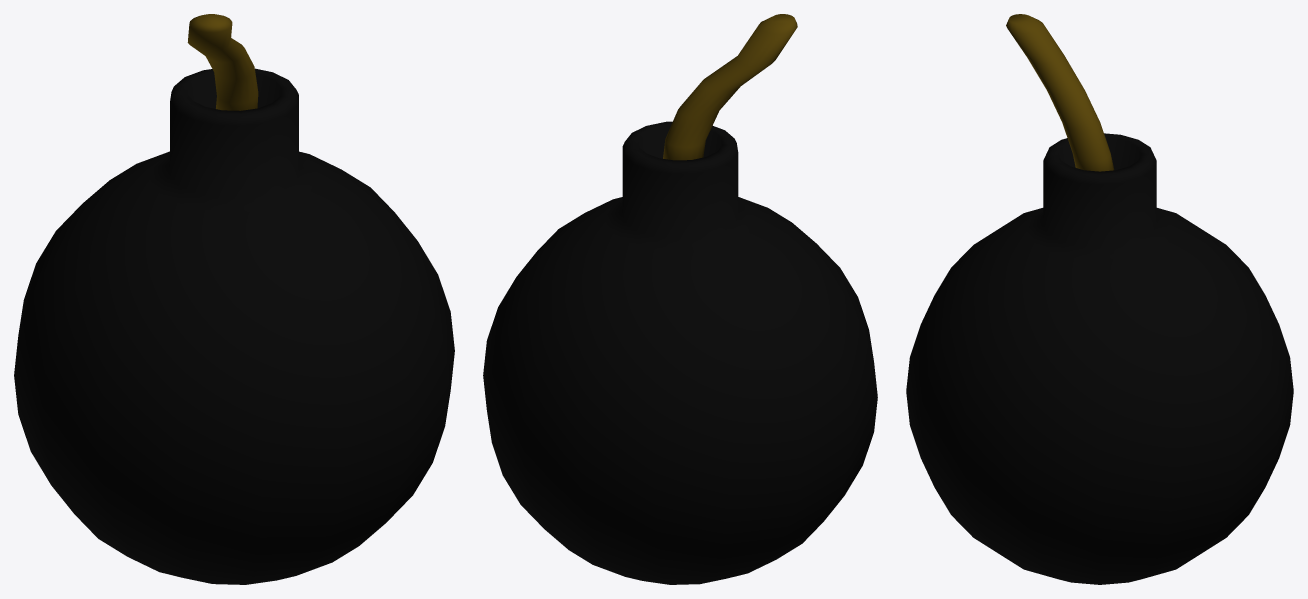
File: Bomb.fbx
The picture shows the model from 3 angles, left to right: view 1: azimuth 30°, elevation 25°; view 2: azimuth 150°, elevation 25°; view 3: azimuth 270°, elevation 25°; orthographic projection. The views are drawn at different scales.
Parts seen in each view (by area): view 1: Bomb; view 2: Bomb; view 3: Bomb.
Boxes of the visible parts, x1,y1,x2,y2 form: Bomb: (14, 14, 454, 584); Bomb: (483, 14, 877, 584); Bomb: (906, 14, 1293, 584).
Bounding box in the file's own units: 0.2312 × 0.3415 × 0.2312.
